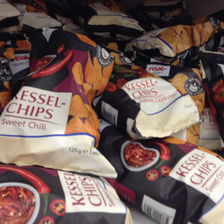chips: (1, 36, 121, 179), (94, 124, 223, 224), (91, 35, 201, 138)
